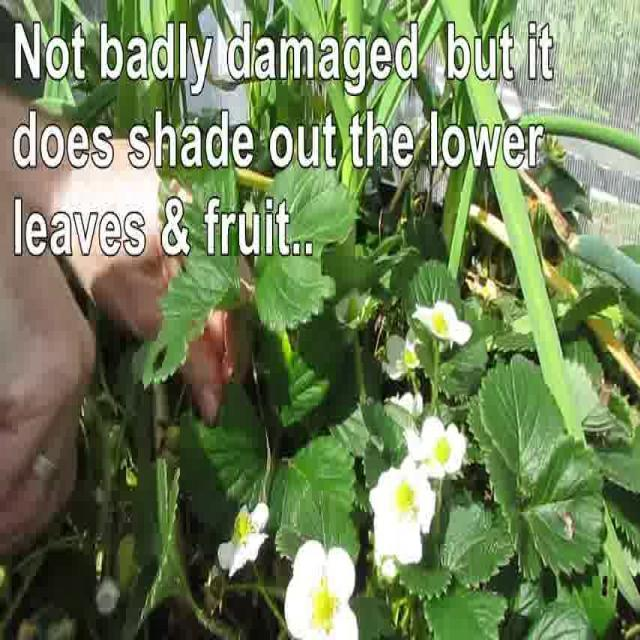Fruta sana: (346, 299, 359, 321)
